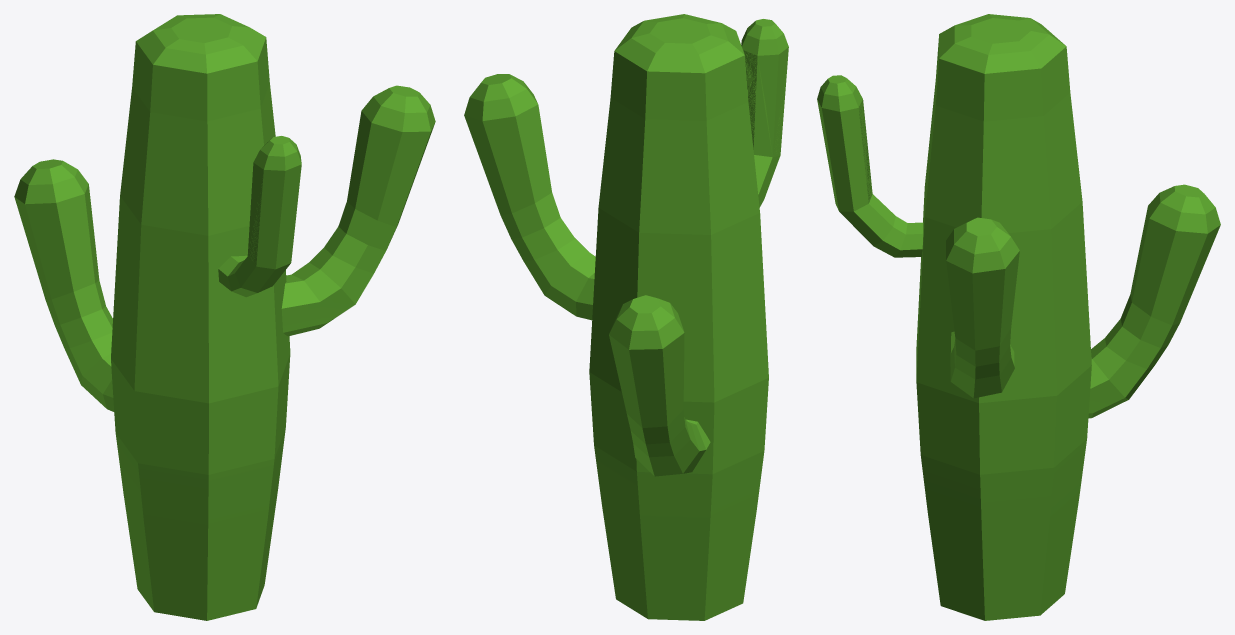
The model's file is Cactus5.fbx.
3 views of the same model, side by side, from view 1: azimuth 30°, elevation 25°; view 2: azimuth 150°, elevation 25°; view 3: azimuth 270°, elevation 25° (orthographic).
Parts seen in each view (by area): view 1: Cactus5; view 2: Cactus5; view 3: Cactus5.
Part boxes in pixels (x1=…): Cactus5: x1=14, y1=14, x2=435, y2=620; Cactus5: x1=464, y1=14, x2=788, y2=620; Cactus5: x1=817, y1=14, x2=1220, y2=620.
Bounding box in the file's own units: 427 × 740 × 481.
